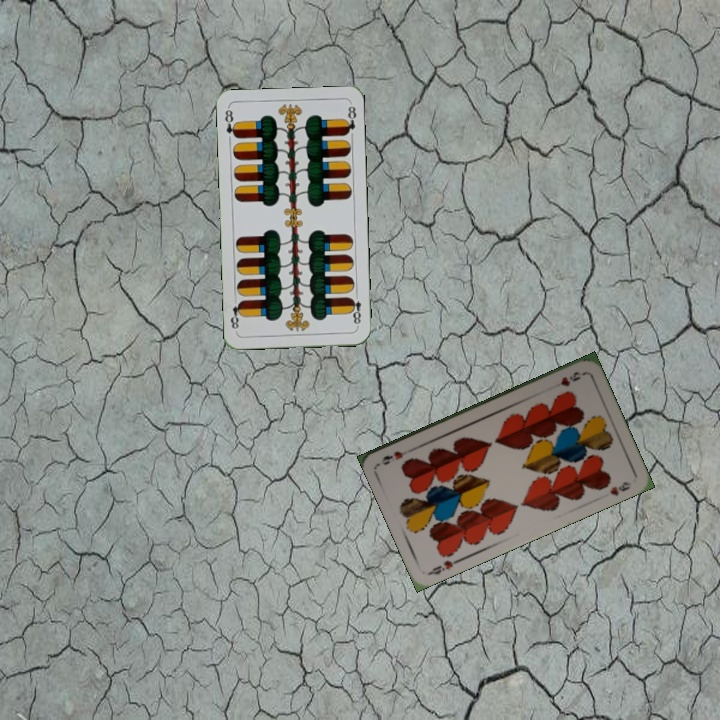E8: (346, 289, 364, 330), (221, 105, 240, 140)
H9: (425, 555, 463, 578), (556, 367, 587, 389)
